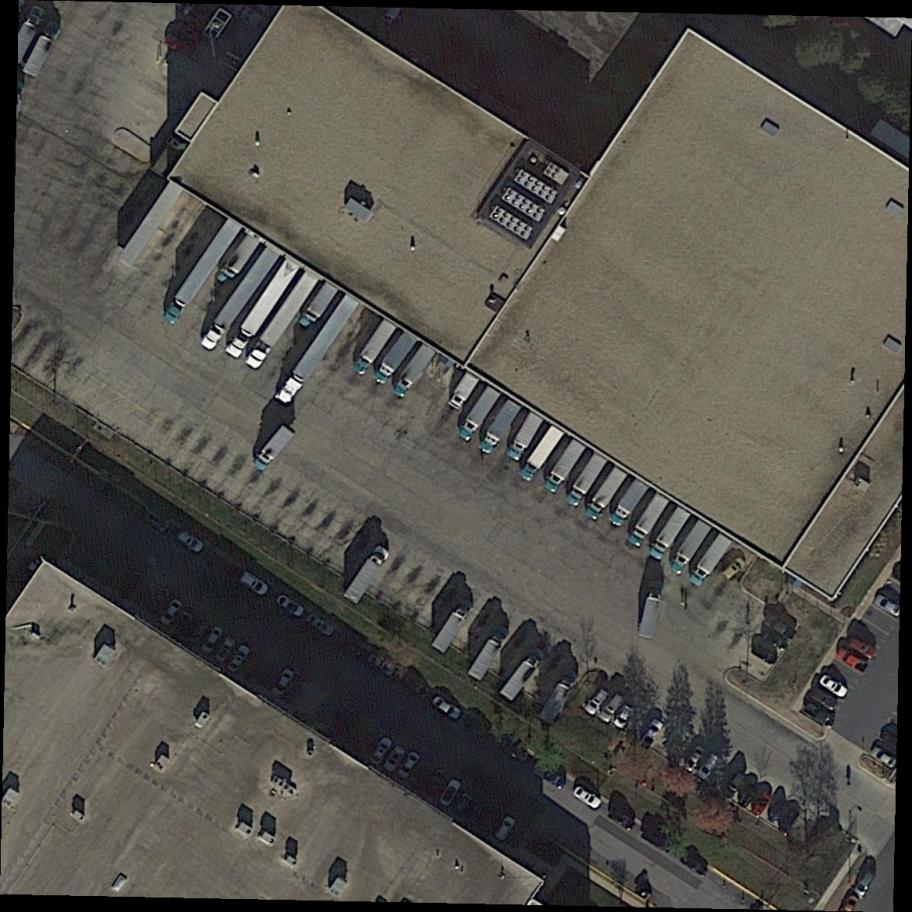large-vehicle: (274, 294, 360, 408), (161, 216, 243, 328), (200, 246, 280, 353), (223, 255, 301, 360), (244, 270, 320, 372), (339, 542, 395, 608), (350, 317, 398, 378), (520, 423, 568, 484), (466, 625, 513, 684), (429, 597, 476, 656), (21, 19, 65, 81), (625, 492, 672, 550), (498, 647, 545, 704), (457, 385, 502, 444), (582, 466, 629, 522), (648, 505, 694, 562), (670, 519, 715, 577), (564, 451, 608, 509), (688, 534, 734, 589), (478, 400, 524, 455), (543, 438, 587, 495), (249, 422, 297, 474), (373, 331, 418, 386), (392, 344, 436, 398), (606, 477, 650, 531), (537, 672, 579, 727), (218, 234, 260, 287), (504, 411, 546, 464), (297, 283, 338, 331), (636, 580, 665, 641), (446, 371, 479, 411)
small-vehicle: (795, 698, 841, 736), (526, 758, 570, 795), (569, 779, 609, 815), (831, 645, 873, 678), (161, 31, 203, 62), (847, 862, 880, 901), (236, 567, 274, 599), (580, 685, 614, 720), (636, 714, 668, 751), (693, 748, 725, 785), (844, 631, 882, 662), (760, 611, 799, 641), (595, 690, 628, 725), (268, 665, 299, 702), (494, 735, 530, 766), (272, 589, 307, 620), (871, 589, 907, 619), (428, 694, 465, 723), (807, 683, 842, 713), (816, 671, 852, 700), (303, 609, 338, 638), (198, 622, 227, 657), (760, 626, 793, 656), (461, 799, 491, 832), (722, 769, 752, 802), (224, 642, 253, 676), (367, 734, 396, 768), (395, 750, 424, 784), (436, 775, 464, 810), (174, 526, 206, 556), (445, 790, 475, 822), (420, 767, 449, 800), (679, 743, 708, 776), (717, 553, 748, 583), (381, 743, 410, 775), (678, 851, 711, 879), (157, 596, 185, 628), (137, 509, 170, 536), (867, 744, 901, 770), (641, 830, 675, 856), (491, 813, 518, 845), (611, 701, 639, 731), (211, 634, 237, 666), (367, 653, 399, 678), (735, 782, 760, 811), (750, 790, 774, 820), (778, 805, 802, 834), (606, 808, 635, 832), (751, 642, 779, 666), (765, 798, 789, 825), (463, 714, 491, 735), (344, 639, 367, 659), (407, 680, 431, 699)
